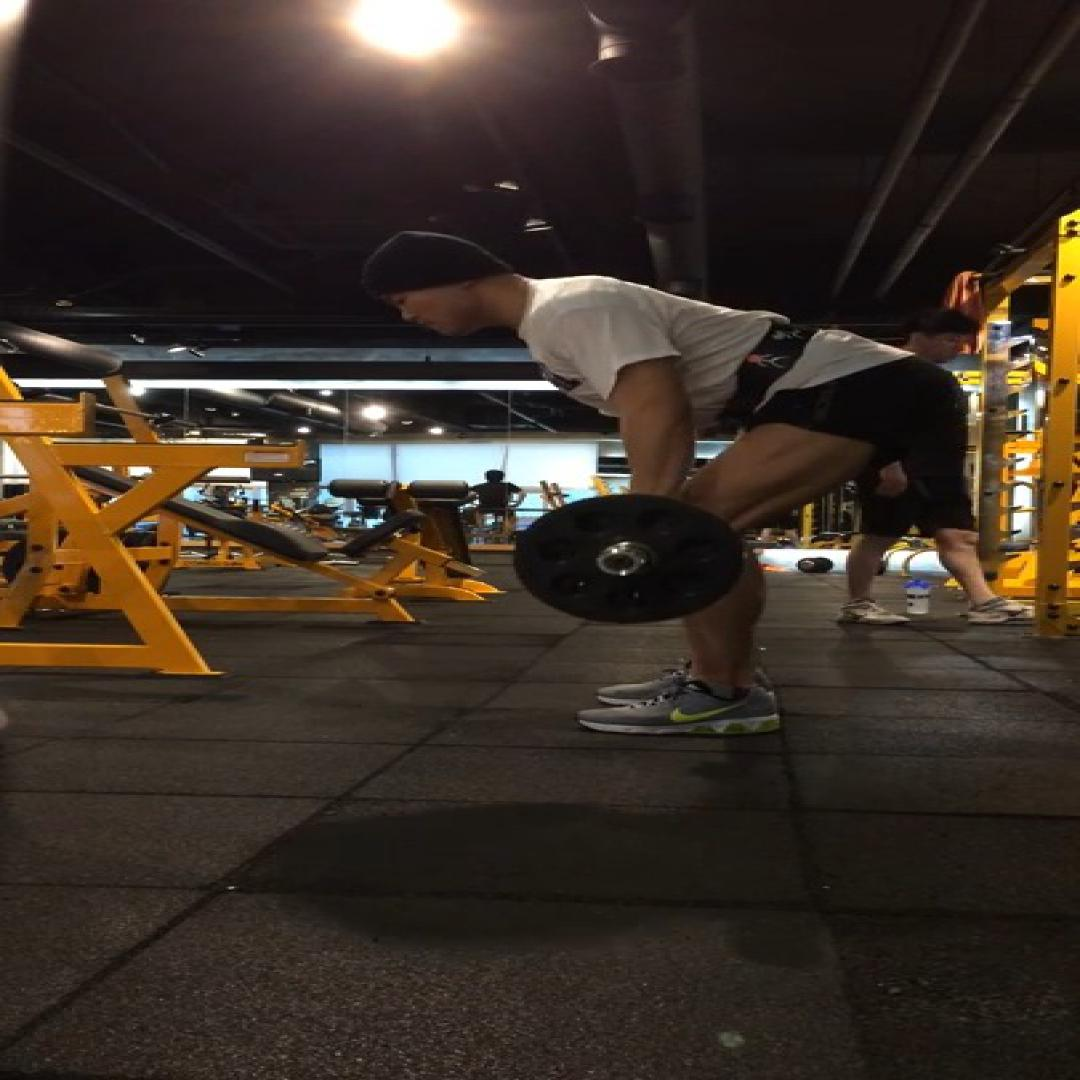Bar: (594, 546, 646, 578)
Barbell: (511, 494, 747, 624)
